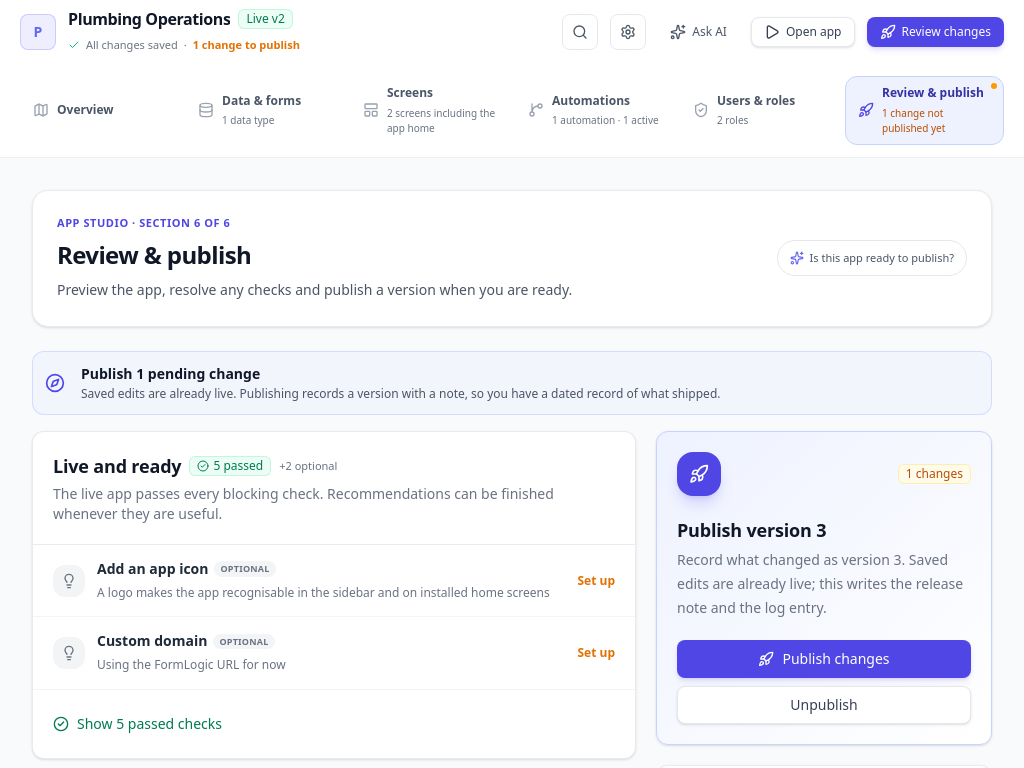
Test: AppStudio › renders the Publish step with preflight and version history
This screenshot has width=1024, height=768.
Expected: the text "1 data type configured" is not shown
Click the button "Show 5 passed checks".
click(150, 723)  # box [53,702,615,746]
(page scrolled)
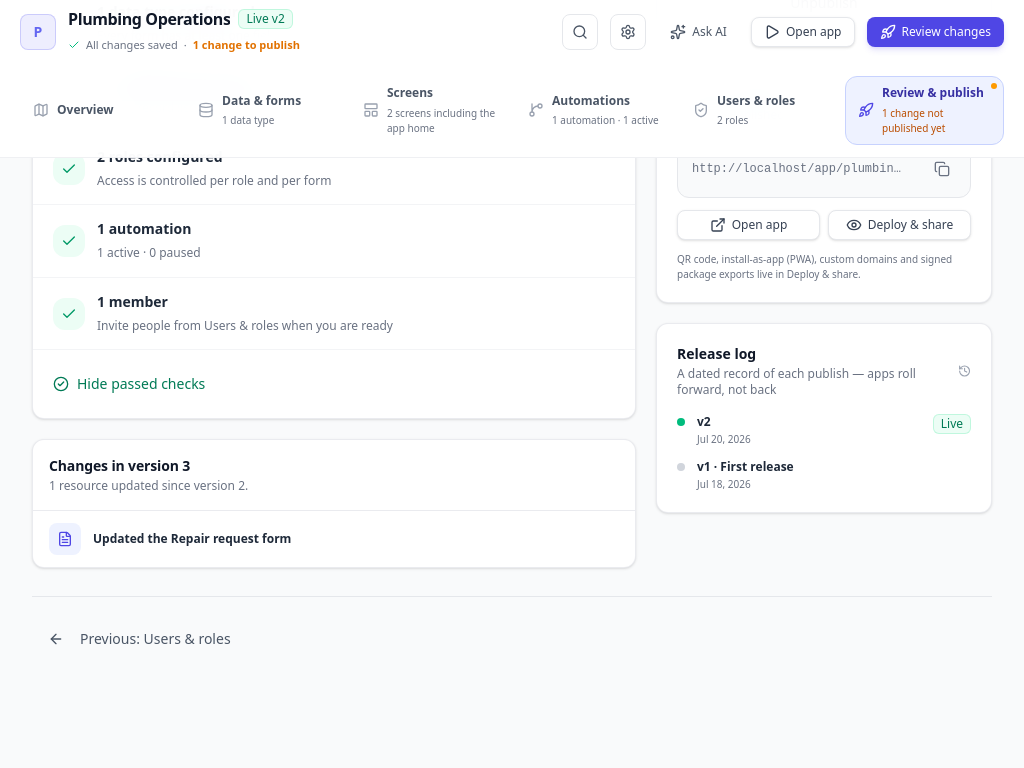
Expected: the text "1 data type configured" is shown, [97,2,255,22]
Now the button "Hide passed checks" is expanded, box [53,362,615,406]
